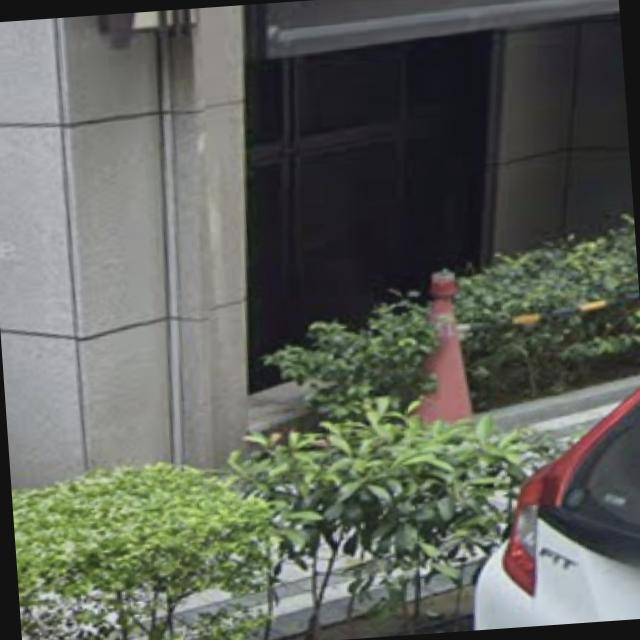cone: (408, 280, 478, 426)
